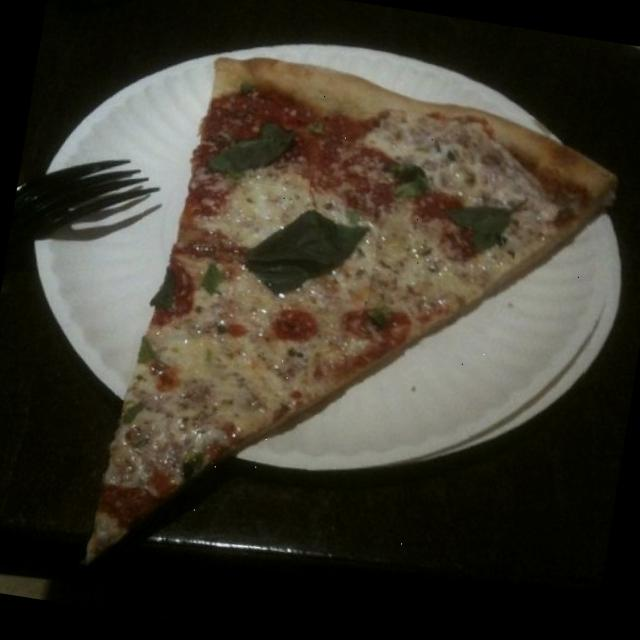basil: (230, 197, 380, 314), (199, 106, 307, 190), (442, 192, 522, 260), (380, 154, 441, 210), (145, 260, 185, 316), (132, 330, 167, 370), (196, 259, 230, 300), (361, 301, 398, 335), (173, 448, 207, 483), (120, 394, 152, 430)
cheese: (353, 90, 567, 221), (340, 200, 508, 331), (166, 266, 288, 424), (101, 388, 202, 506), (202, 152, 313, 257), (274, 326, 352, 418)
pizza: (89, 59, 615, 562)
